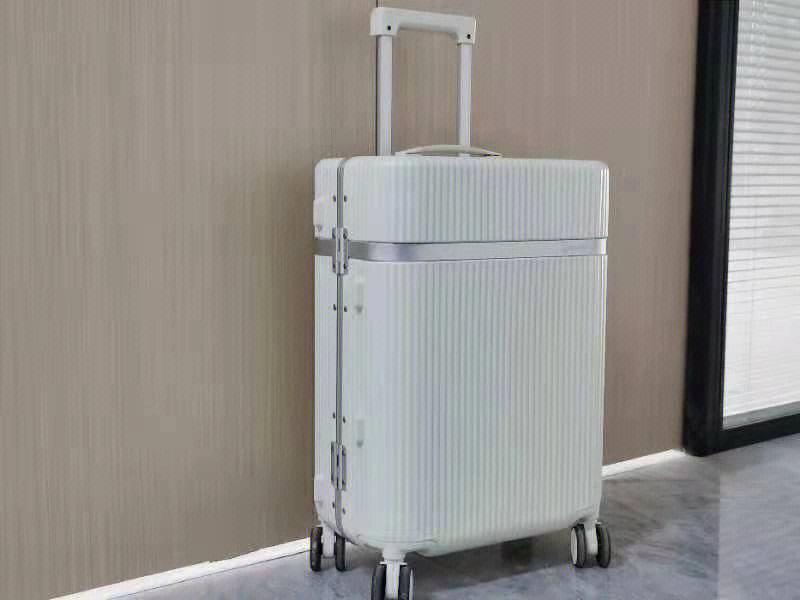box: (314, 157, 610, 554)
handle: (395, 144, 503, 158)
wheel: (569, 522, 611, 567), (308, 526, 348, 572), (370, 561, 415, 600)
